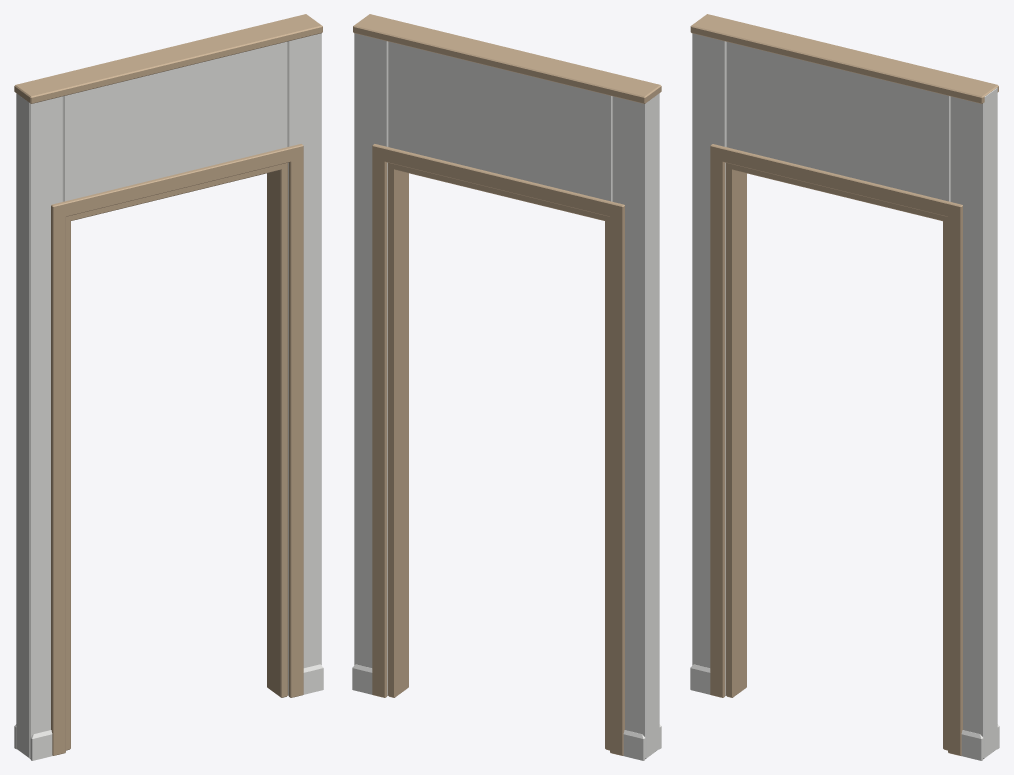
The model's file is office-lobby-and-facilities-corridor-doorway-module-58780878__26169.glb.
3 renders of one model, left to right at view 1: azimuth 30°, elevation 25°; view 2: azimuth 150°, elevation 25°; view 3: azimuth 330°, elevation 25°, orthographic.
Parts seen in each view (by area): view 1: corridor-doorway-module; view 2: corridor-doorway-module; view 3: corridor-doorway-module.
Boxes of the visible parts, <box> form: corridor-doorway-module: <box>14,14,323,760</box>; corridor-doorway-module: <box>352,14,661,760</box>; corridor-doorway-module: <box>690,14,999,760</box>.
Bounding box in the file's own units: 1.2 × 2.6 × 0.1359.
